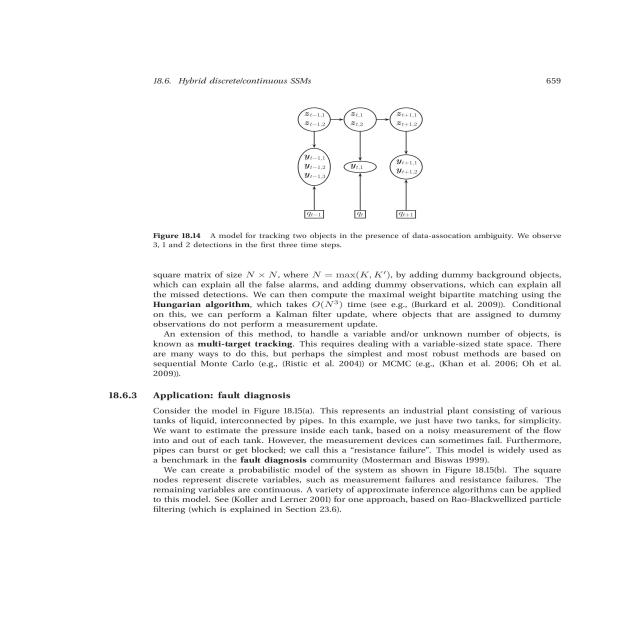diagram: (116, 89, 540, 260)
